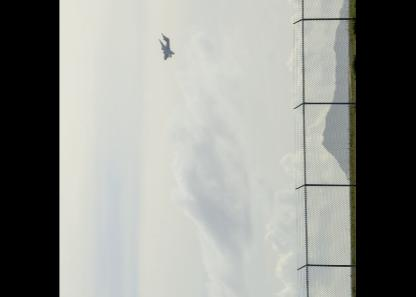C2: (157, 30, 174, 59)
